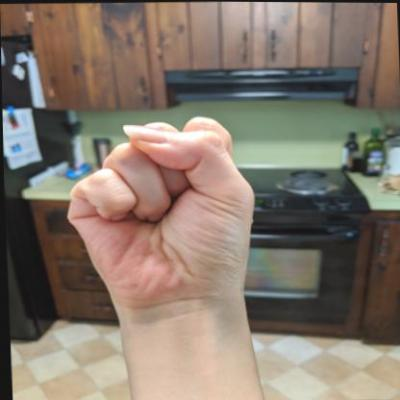hand: (57, 110, 263, 314)
